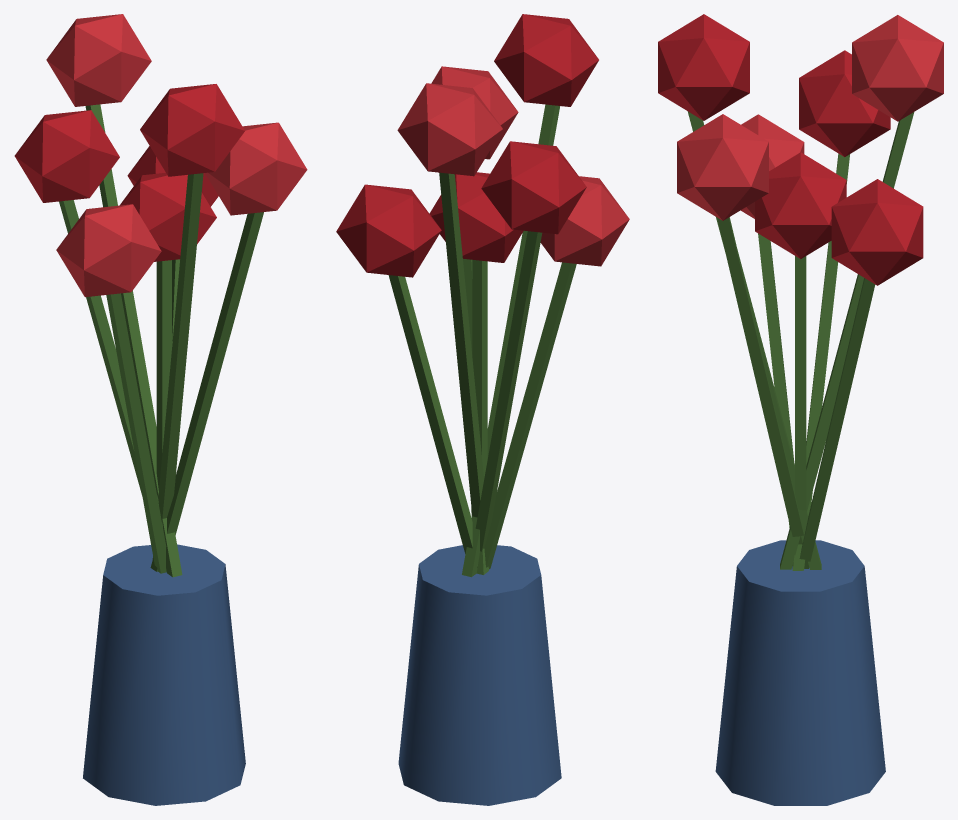
Rendered from vase-roses.obj.
3 views of the same model, side by side, from view 1: azimuth 30°, elevation 25°; view 2: azimuth 150°, elevation 25°; view 3: azimuth 270°, elevation 25° (orthographic). The views are drawn at different scales.
Visible parts, largest first — view 1: vase-roses_0, vase-roses_10, vase-roses_12, vase-roses_8, vase-roses_6, vase-roses_4, vase-roses_5, vase-roses_3, vase-roses_7, vase-roses_2, vase-roses_11, vase-roses_1 (+2 smaller); view 2: vase-roses_0, vase-roses_10, vase-roses_12, vase-roses_14, vase-roses_6, vase-roses_11, vase-roses_9, vase-roses_7, vase-roses_13, vase-roses_8, vase-roses_2, vase-roses_1 (+3 smaller); view 3: vase-roses_0, vase-roses_14, vase-roses_6, vase-roses_12, vase-roses_4, vase-roses_2, vase-roses_10, vase-roses_3, vase-roses_11, vase-roses_13, vase-roses_1, vase-roses_9 (+3 smaller).
Boxes of the visible parts, box(x1,y1,x2,y2) form: vase-roses_0: box(83, 544, 245, 805); vase-roses_10: box(14, 110, 119, 202); vase-roses_12: box(46, 14, 151, 106); vase-roses_8: box(56, 204, 161, 297); vase-roses_6: box(140, 84, 244, 176); vase-roses_4: box(205, 122, 307, 215); vase-roses_5: box(152, 173, 203, 559); vase-roses_3: box(150, 212, 263, 571); vase-roses_7: box(106, 293, 166, 573); vase-roses_2: box(119, 172, 216, 261); vase-roses_11: box(85, 104, 182, 577); vase-roses_1: box(156, 260, 171, 526); vase-roses_0: box(398, 545, 561, 805); vase-roses_10: box(481, 141, 586, 234); vase-roses_12: box(397, 83, 502, 176); vase-roses_14: box(336, 184, 441, 277); vase-roses_6: box(494, 14, 598, 106); vase-roses_11: box(439, 172, 483, 517); vase-roses_9: box(475, 231, 542, 551); vase-roses_7: box(484, 262, 576, 569); vase-roses_13: box(388, 275, 477, 567); vase-roses_8: box(540, 176, 629, 266); vase-roses_2: box(429, 172, 523, 262); vase-roses_1: box(472, 260, 487, 478); vase-roses_0: box(715, 540, 885, 805); vase-roses_14: box(831, 179, 923, 285); vase-roses_6: box(658, 14, 749, 120); vase-roses_12: box(852, 15, 943, 121); vase-roses_4: box(677, 114, 768, 220); vase-roses_2: box(755, 152, 846, 258); vase-roses_10: box(799, 50, 890, 156); vase-roses_3: box(717, 217, 803, 544); vase-roses_11: box(780, 112, 914, 569); vase-roses_13: box(799, 278, 875, 568); vase-roses_1: box(795, 256, 806, 544); vase-roses_9: box(792, 153, 849, 570).
Bounding box in the file's own units: 0.1724 × 0.5723 × 0.2013.
